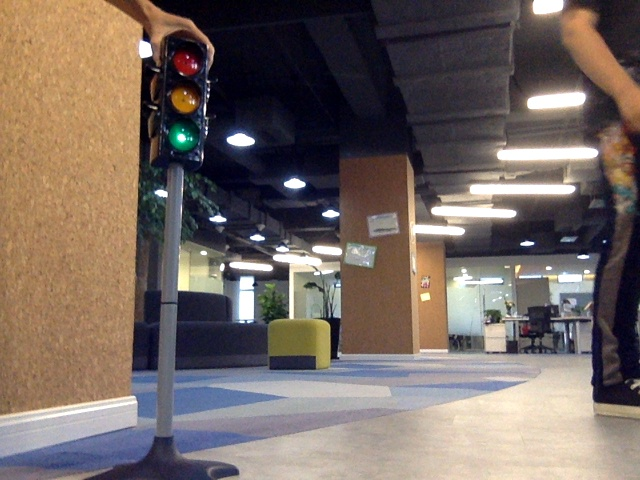green: (160, 50, 197, 156)
